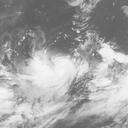cyclone: (17, 48, 76, 102)
